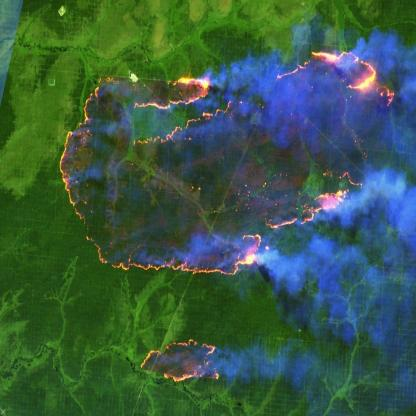fire: (57, 31, 399, 285), (133, 332, 223, 388)
